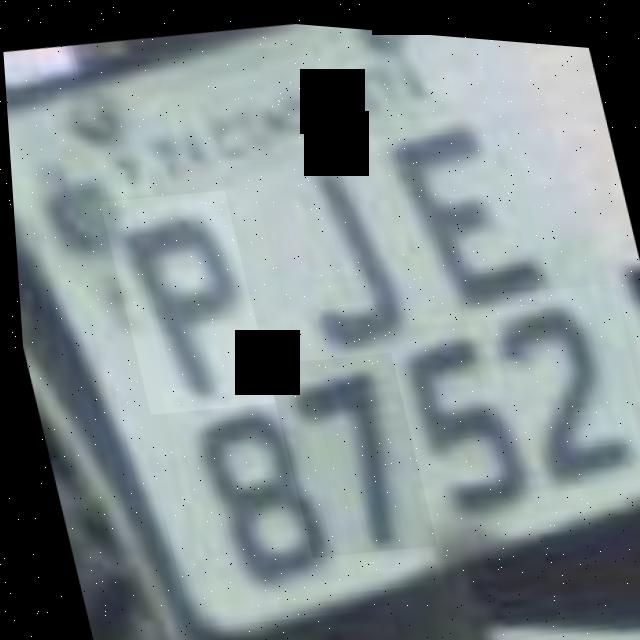2: (456, 263, 640, 499)
5: (365, 305, 542, 521)
7: (260, 338, 431, 560)
8: (153, 359, 355, 618)
E: (370, 96, 551, 316)
J: (245, 136, 423, 367)
P: (96, 178, 271, 420)
